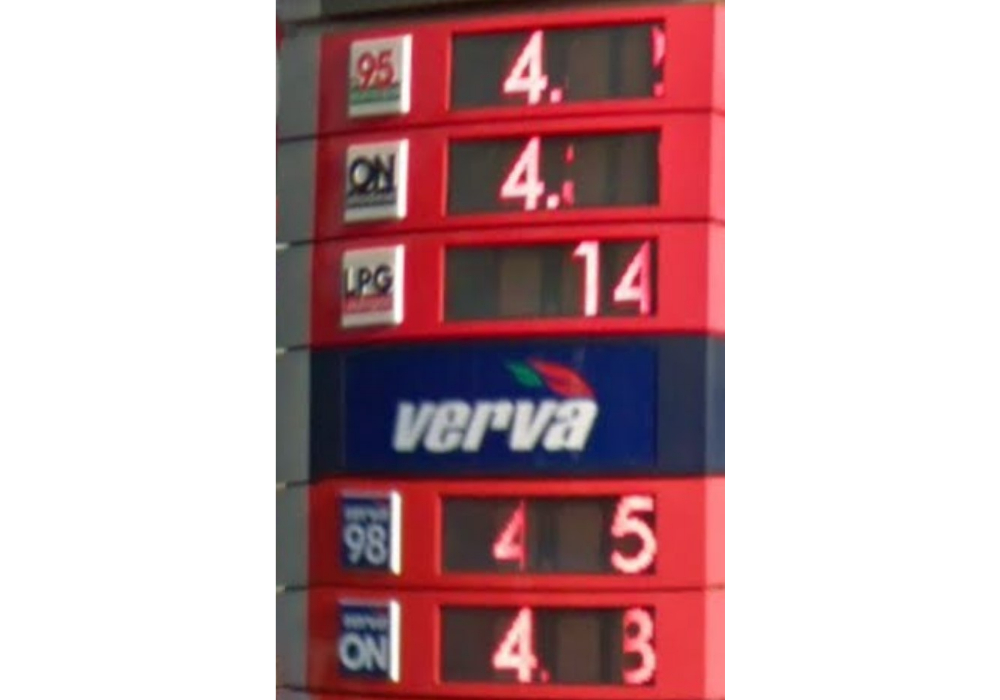LPG: (336, 244, 404, 328)
ON: (335, 593, 401, 685), (343, 140, 408, 223)
PB95: (347, 32, 415, 122)
PB98: (336, 486, 400, 578)
